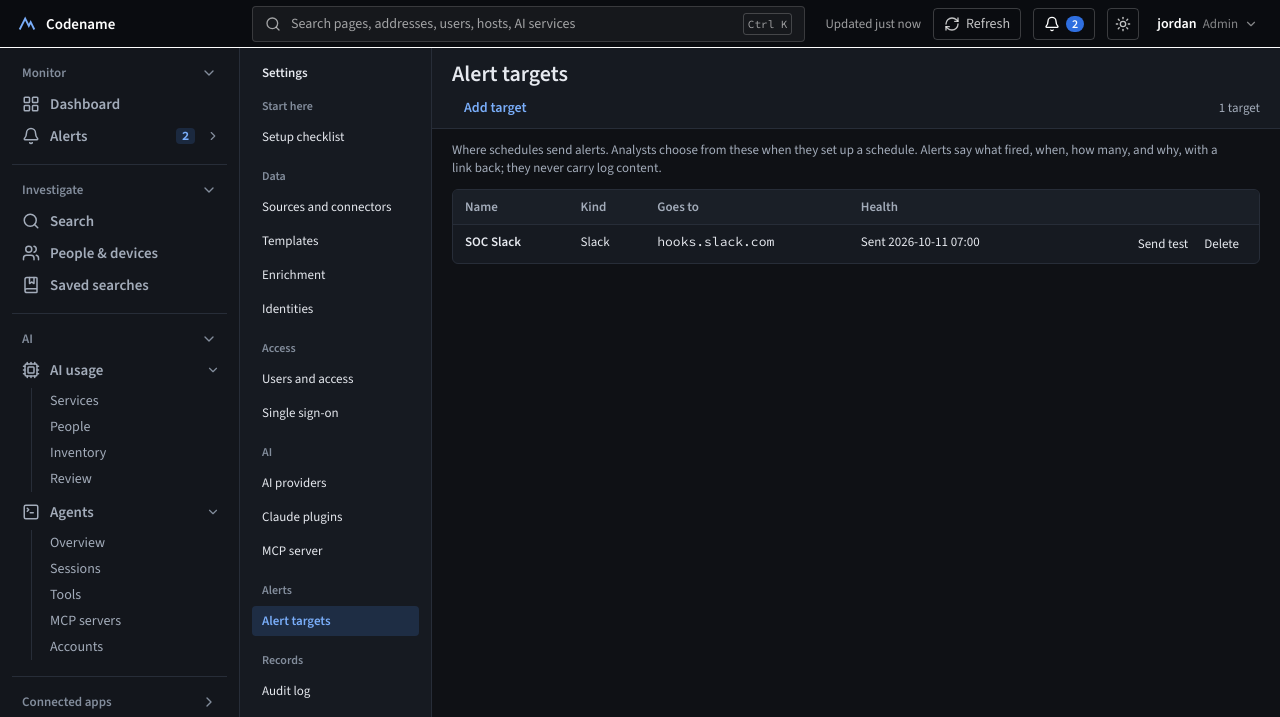
Test: Alert targets › shows a failed test send with its reason
Click the button with aria-label "Send a test to SOC Slack": [1163, 244] box [1130, 233, 1196, 255]
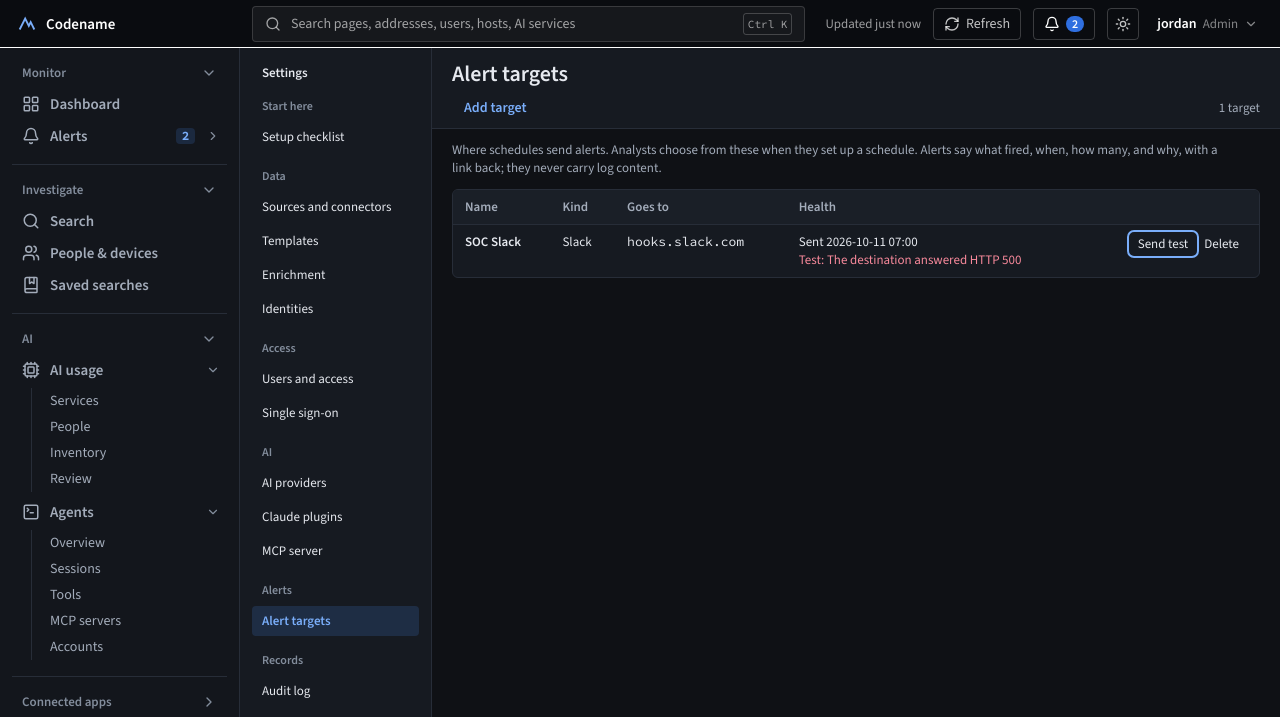
Expected: the text "Test: The destination answered HTTP 500" is shown, [799, 251, 1022, 268]
